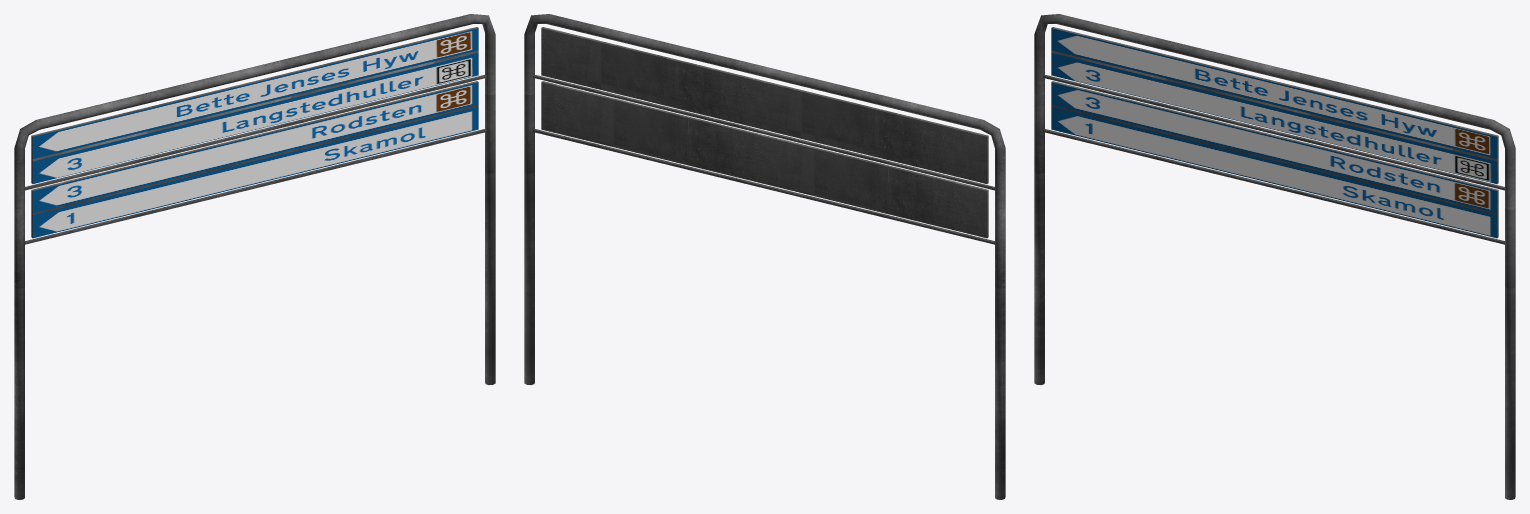
Rendered from SkilteStortFur2.fbx.
3 renders of one model, left to right at view 1: azimuth 30°, elevation 25°; view 2: azimuth 150°, elevation 25°; view 3: azimuth 330°, elevation 25°, orthographic.
Parts seen in each view (by area): view 1: Skilt_LOD0; view 2: Skilt_LOD0; view 3: Skilt_LOD0.
Part boxes in pixels (x1,y1,x2,y2): Skilt_LOD0: (14, 14, 495, 499); Skilt_LOD0: (524, 14, 1005, 499); Skilt_LOD0: (1034, 14, 1515, 499).
Size of what is drawn, in the model's own units: 255 by 190 by 5.
